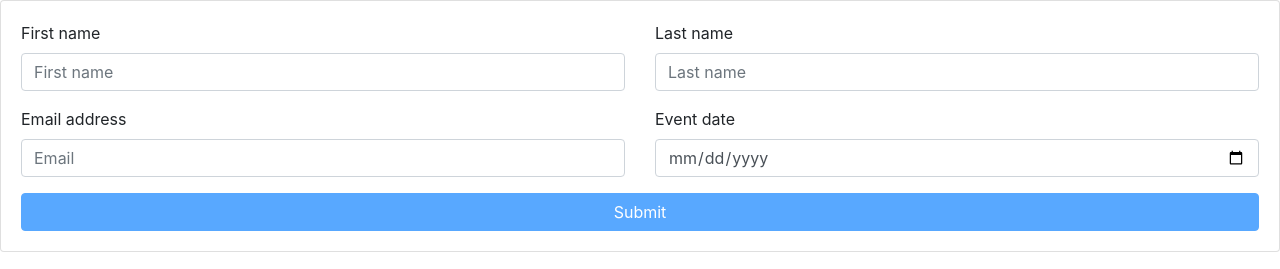
button should not be disable when all fields are filled in
This screenshot has width=1280, height=269.
Type "FirstNameTestValue" into the field labelled "First name" at (323, 72), box [21,53,625,91]
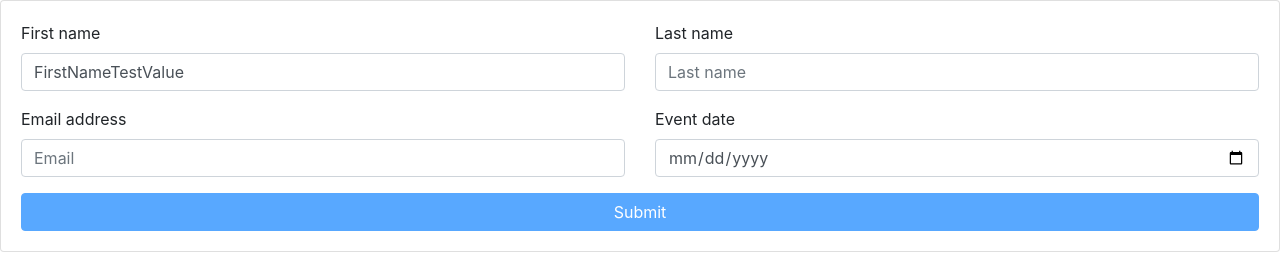
Type "LastNameTestValue" into the field labelled "Last name" at (957, 72), box [655,53,1259,91]
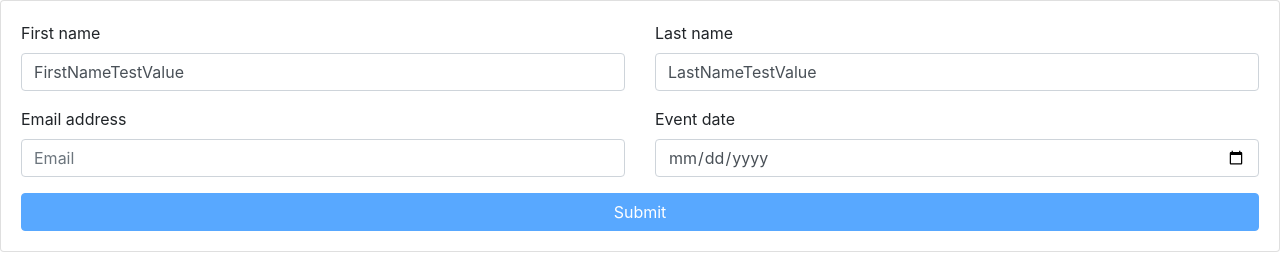
Type "Test@test.com" into the field labelled "Email address" at (323, 158), box [21,139,625,177]
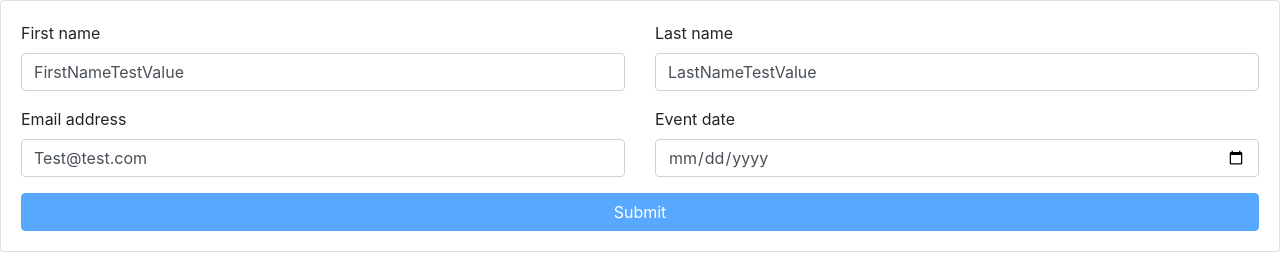
Type "1111-11-11" into the date field labelled "Event date" at (957, 158), box [655,139,1259,177]
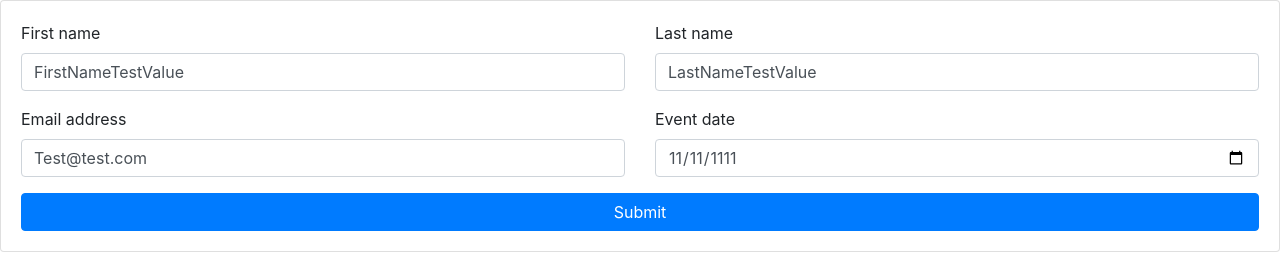
Now the button "Submit" is enabled, box [21,193,1259,231]
